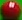red: (0, 0, 22, 20)
